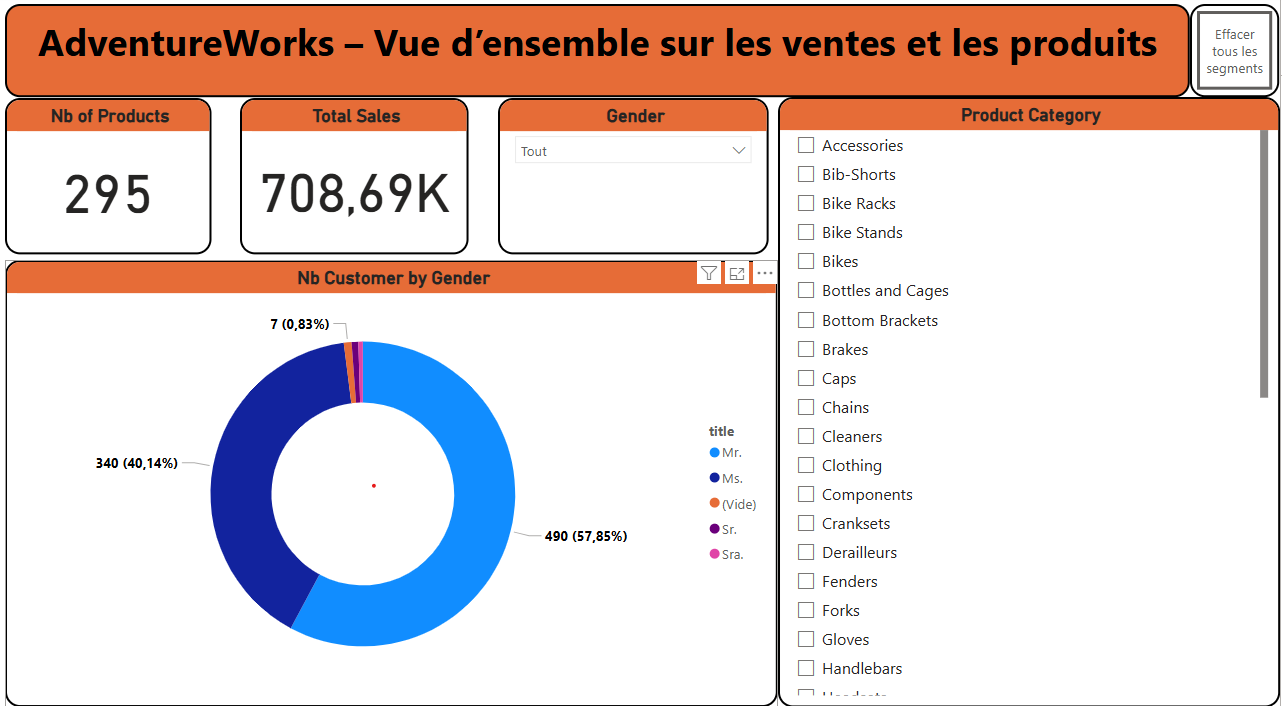

Layout of this report page (visuals, bound fields, positions):
{"tool":"powerbi","page":{"name":"Page 1","canvas":[1280,720],"ordinal":0},"visuals":[{"type":"card","title":"Nb of Products","fields":{"Values":["CountNonNull(Product.product_id)"]},"box":[8,102.8,205.5,155.6],"z":0},{"type":"card","title":"Total Sales","fields":{"Values":["Sum(SalesOrderDetail.line_total)"]},"box":[242.4,102.8,228.5,155.6],"z":1000},{"type":"donutChart","title":"Nb Customer by Gender","fields":{"Category":["Customer.title"],"Y":["Count(Customer.customer_id)"]},"box":[8.1,264.8,771.3,446],"z":2000},{"type":"slicer","title":"Gender","fields":{"Values":["Customer.title"]},"box":[499.8,102.8,270.4,155.6],"z":3000},{"type":"slicer","title":"Product Category","fields":{"Values":["ProductCategory.name"]},"box":[779.4,102.2,500.6,608.6],"z":4000},{"type":"textbox","title":"AdventureWorks – Vue d’ensemble sur les ventes et les produits","box":[8.1,9.3,1182.4,92.9],"z":4001},{"type":"actionButton","box":[1190.6,9.3,89.4,92.9],"z":4002}]}

Visuals, with their boxes in screenshot pixels (x1, y1, x2, y2), scaled from the page's 1280x720 canvas onto the 1282x706 screenshot:
"Nb of Products" card: bbox=(8, 101, 214, 253)
"Total Sales" card: bbox=(243, 101, 472, 253)
"Nb Customer by Gender" donutChart: bbox=(8, 260, 781, 697)
"Gender" slicer: bbox=(501, 101, 771, 253)
"Product Category" slicer: bbox=(781, 100, 1281, 697)
"AdventureWorks – Vue d’ensemble sur les ventes et les produits" textbox: bbox=(8, 9, 1192, 100)
actionButton: bbox=(1192, 9, 1281, 100)
